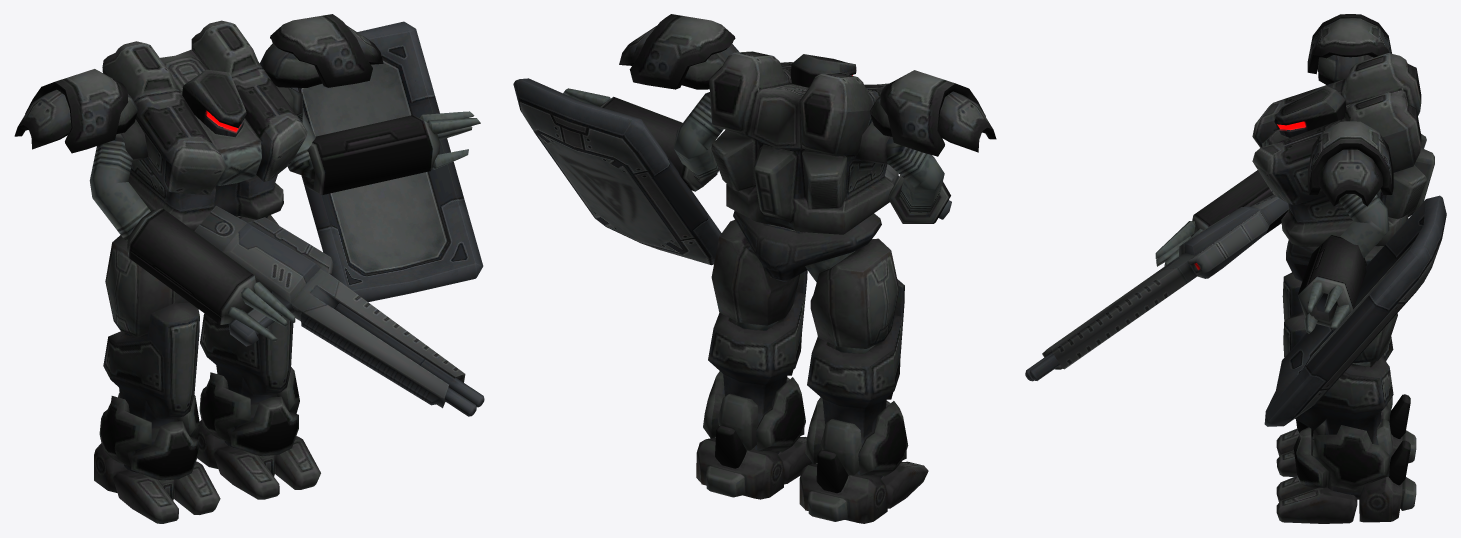
3 views of the same model, side by side, from view 1: azimuth 30°, elevation 25°; view 2: azimuth 150°, elevation 25°; view 3: azimuth 270°, elevation 25° (orthographic). The views are drawn at different scales.
Visible parts, largest first — view 1: Mesh, ShieldBone, GunBone; view 2: Mesh, ShieldBone; view 3: Mesh, ShieldBone, GunBone.
Part boxes in pixels (x1,y1,x2,y2): Mesh: [14, 14, 480, 523]; ShieldBone: [291, 21, 483, 302]; GunBone: [194, 205, 484, 416]; Mesh: [563, 14, 996, 523]; ShieldBone: [513, 78, 721, 265]; Mesh: [1155, 14, 1434, 523]; ShieldBone: [1264, 195, 1446, 426]; GunBone: [1025, 194, 1288, 381].
Size of the model in its own units: 1.19 by 1.12 by 1.04.
3 materials, 3 textured.
